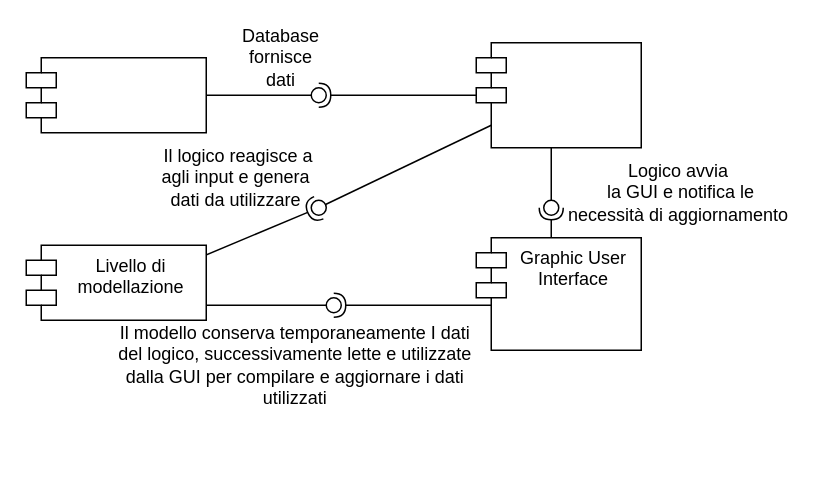
Some shapes in this 818 by 482 pixel diagram are drawn without their labels. The box of each missing label's shape, as (x1, y1, x2, y2) in pixels:
DataBase: (25, 56, 206, 133)
Livello Logico: (475, 41, 641, 148)
